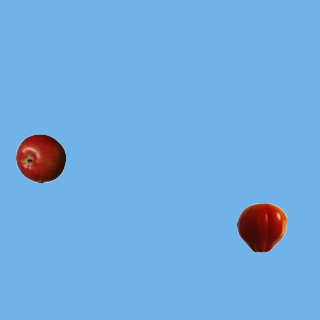Apple Braeburn: (15, 133, 65, 183)
Tomato 1: (236, 202, 286, 252)
